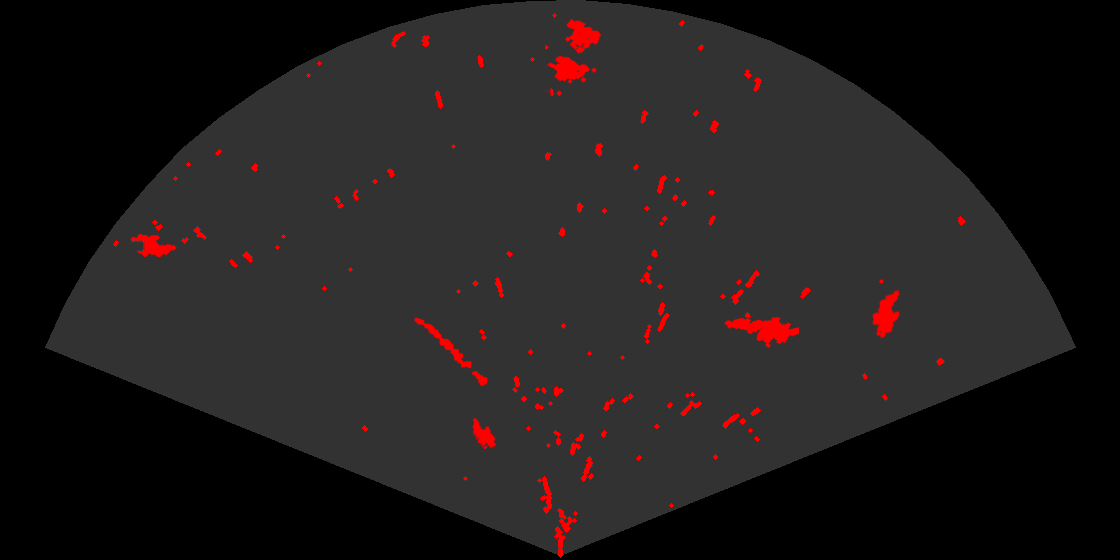AUV: (871, 288, 902, 340), (129, 232, 178, 258), (471, 416, 498, 450)
cage: (545, 17, 603, 96)
chain: (413, 316, 489, 388)
frogman: (723, 315, 799, 350)
